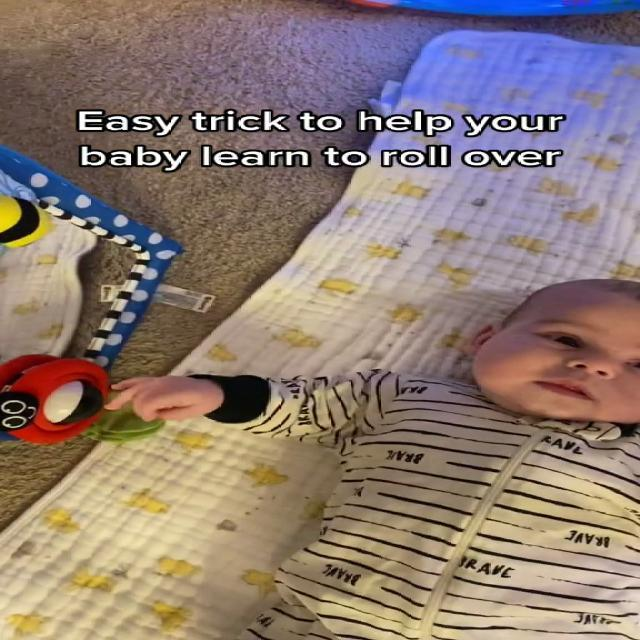baby: (107, 270, 640, 640)
